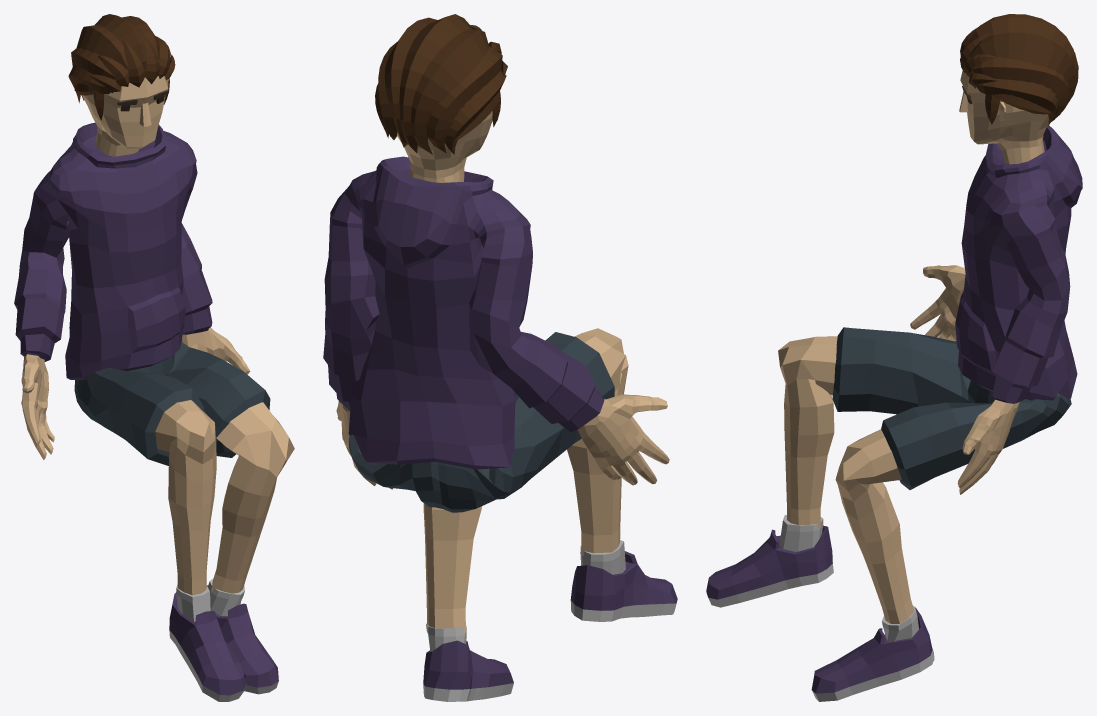
Rendered from man-hoodie.glb.
3 views of the same model, side by side, from view 1: azimuth 30°, elevation 25°; view 2: azimuth 150°, elevation 25°; view 3: azimuth 270°, elevation 25° (orthographic). The views are drawn at different scales.
Parts seen in each view (by area): view 1: man-hoodie; view 2: man-hoodie; view 3: man-hoodie.
Boxes of the visible parts, x1,y1,x2,y2 form: man-hoodie: (14,14,294,701); man-hoodie: (323,14,677,701); man-hoodie: (706,14,1082,701).
Size of the model in its own units: 0.6256 by 1.5 by 0.7829.
